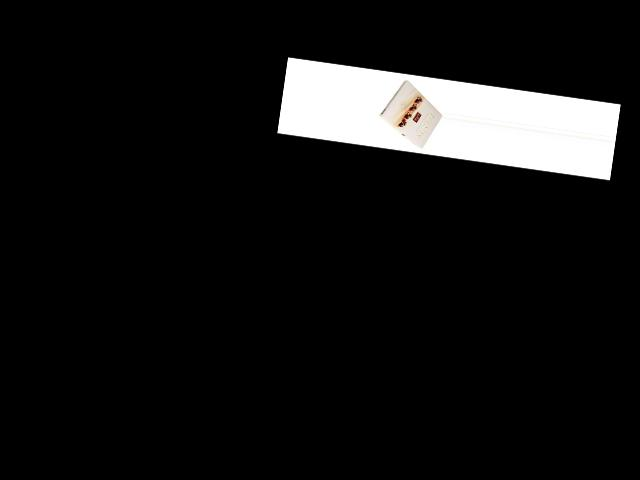chocolate: (374, 71, 446, 150)
